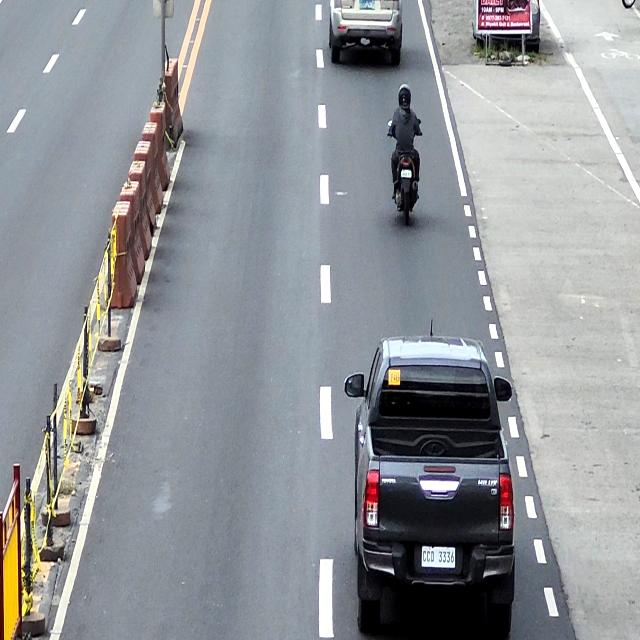Car: (345, 336, 516, 640), (329, 0, 403, 67)
License-Plate: (422, 545, 456, 569), (358, 0, 374, 9), (400, 169, 412, 178)
Motorcycle: (387, 118, 422, 226)
